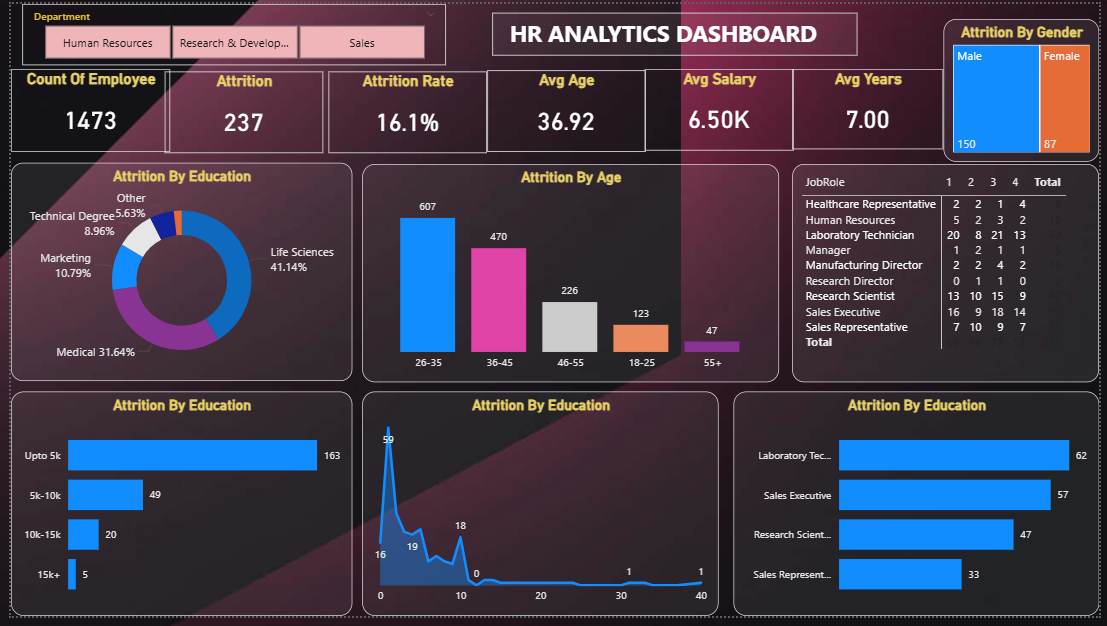

The page's visual inventory and layout, read from the dashboard file:
{"tool":"powerbi","page":{"name":"Page 1","canvas":[1280,720],"ordinal":0},"visuals":[{"type":"card","title":"Count Of Employee","fields":{"Values":["CountNonNull(HR_Analytics(1).EmpID)"]},"box":[0,76.4,187.5,97.2],"z":0},{"type":"card","title":"Attrition","fields":{"Values":["Sum(HR_Analytics(1).Attrition Count)"]},"box":[188.2,79.4,185.3,95.6],"z":1000},{"type":"card","title":"Attrition Rate","fields":{"Values":["HR_Analytics(1).Attrition Rate"]},"box":[373.5,79.4,186.8,95.6],"z":2000},{"type":"card","title":"Avg Age","fields":{"Values":["Avg(HR_Analytics(1).Age)"]},"box":[559.7,77.8,186.1,95.8],"z":3000},{"type":"card","title":"Avg Salary","fields":{"Values":["Avg(HR_Analytics(1).MonthlyIncome)"]},"box":[745.8,76.4,175,95.8],"z":4000},{"type":"card","title":"Avg Years","fields":{"Values":["Avg(HR_Analytics(1).YearsAtCompany)"]},"box":[919.4,76.4,177.8,94.4],"z":5000},{"type":"donutChart","title":"Attrition By Education","fields":{"Category":["HR_Analytics(1).EducationField"],"Y":["CountNonNull(HR_Analytics(1).Attrition)"]},"box":[0,186.1,401.4,256.9],"z":6000},{"type":"columnChart","title":"Attrition By Age","fields":{"Y":["CountNonNull(HR_Analytics(1).Attrition)"],"Category":["HR_Analytics(1).AgeGroup"]},"box":[413.9,187.5,490.3,256.9],"z":7000},{"type":"pivotTable","fields":{"Rows":["HR_Analytics(1).JobRole"],"Columns":["HR_Analytics(1).JobSatisfaction"],"Values":["Sum(HR_Analytics(1).Attrition Count)"]},"box":[919.4,187.5,361.1,256.9],"z":8000},{"type":"clusteredBarChart","title":"Attrition By Education","fields":{"Category":["HR_Analytics(1).SalarySlab"],"Y":["Sum(HR_Analytics(1).Attrition Count)"]},"box":[0,455.6,401.4,263.9],"z":9000},{"type":"clusteredBarChart","title":"Attrition By Education","fields":{"Y":["Sum(HR_Analytics(1).Attrition Count)"],"Category":["HR_Analytics(1).JobRole"]},"box":[850,455.6,430.6,263.9],"z":10000},{"type":"areaChart","title":"Attrition By Education","fields":{"Category":["HR_Analytics(1).YearsAtCompany"],"Y":["Sum(HR_Analytics(1).Attrition Count)"]},"box":[413.9,455.6,419.4,263.9],"z":11000},{"type":"treemap","title":"Attrition By Gender","fields":{"Group":["HR_Analytics(1).Gender"],"Values":["Sum(HR_Analytics(1).Attrition Count)"]},"box":[1097.2,18.1,183.3,168.1],"z":12000},{"type":"slicer","fields":{"Values":["HR_Analytics(1).Department"]},"box":[13.2,0,498.5,72.1],"z":13000},{"type":"textbox","box":[566.7,11,429.5,50.8],"z":15000}]}

Visuals, with their boxes in screenshot pixels (x1, y1, x2, y2), scaled from the page's 1280x720 canvas onto the 1107x626 screenshot:
"Count Of Employee" card: (x1=0, y1=66, x2=162, y2=151)
"Attrition" card: (x1=163, y1=69, x2=323, y2=152)
"Attrition Rate" card: (x1=323, y1=69, x2=485, y2=152)
"Avg Age" card: (x1=484, y1=68, x2=645, y2=151)
"Avg Salary" card: (x1=645, y1=66, x2=796, y2=150)
"Avg Years" card: (x1=795, y1=66, x2=949, y2=149)
"Attrition By Education" donutChart: (x1=0, y1=162, x2=347, y2=385)
"Attrition By Age" columnChart: (x1=358, y1=163, x2=782, y2=386)
pivotTable - HR_Analytics(1).JobRole x HR_Analytics(1).JobSatisfaction: (x1=795, y1=163, x2=1106, y2=386)
"Attrition By Education" clusteredBarChart: (x1=0, y1=396, x2=347, y2=625)
"Attrition By Education" clusteredBarChart: (x1=735, y1=396, x2=1106, y2=625)
"Attrition By Education" areaChart: (x1=358, y1=396, x2=721, y2=625)
"Attrition By Gender" treemap: (x1=949, y1=16, x2=1106, y2=162)
slicer - HR_Analytics(1).Department: (x1=11, y1=0, x2=443, y2=63)
textbox: (x1=490, y1=10, x2=862, y2=54)
